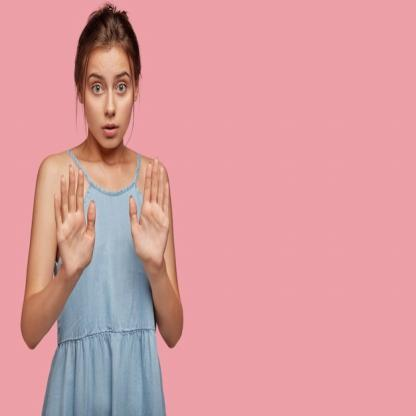stop: (50, 160, 102, 278), (127, 155, 173, 268)
